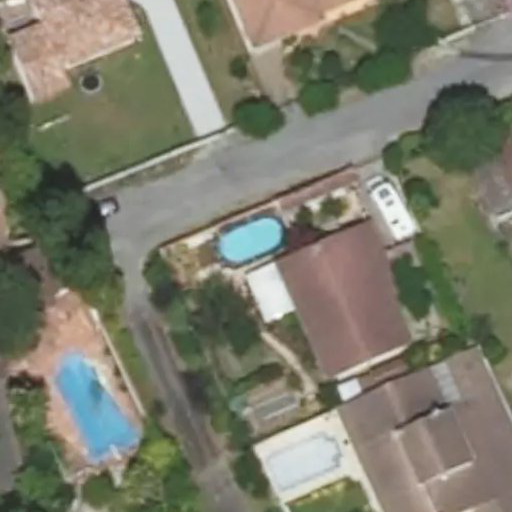pool: (221, 237, 290, 246)
